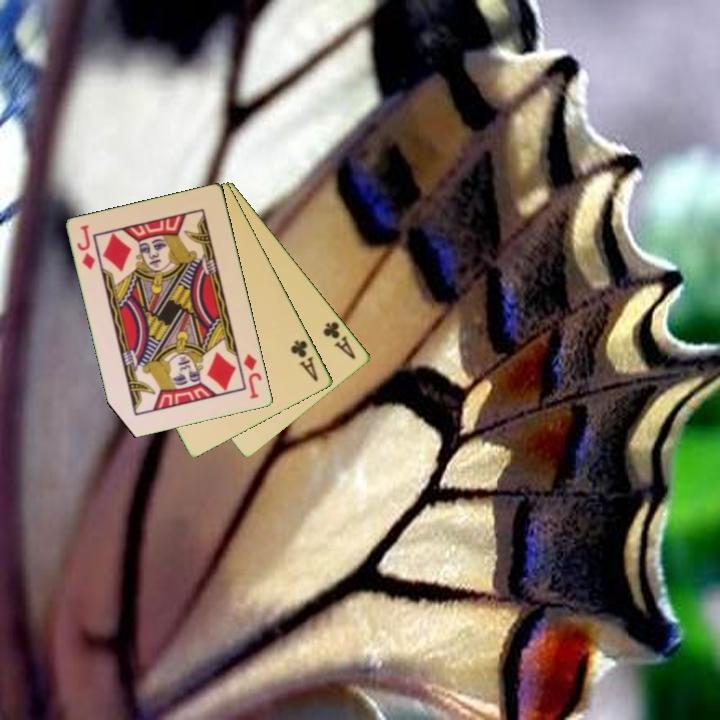Ac: (320, 318, 359, 362), (287, 336, 321, 384)
Jd: (240, 350, 265, 402), (74, 221, 99, 272)
